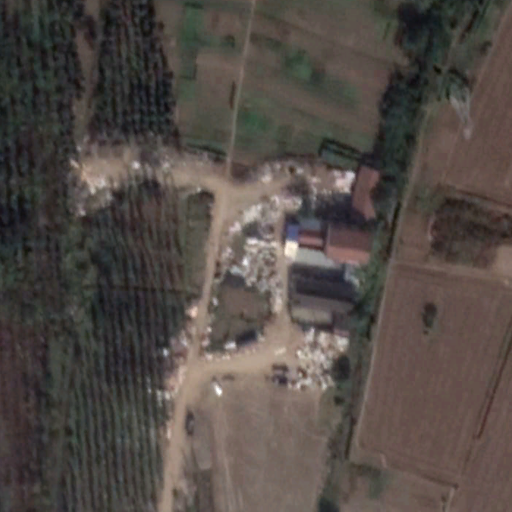msw: (220, 191, 301, 303), (295, 330, 346, 392)
